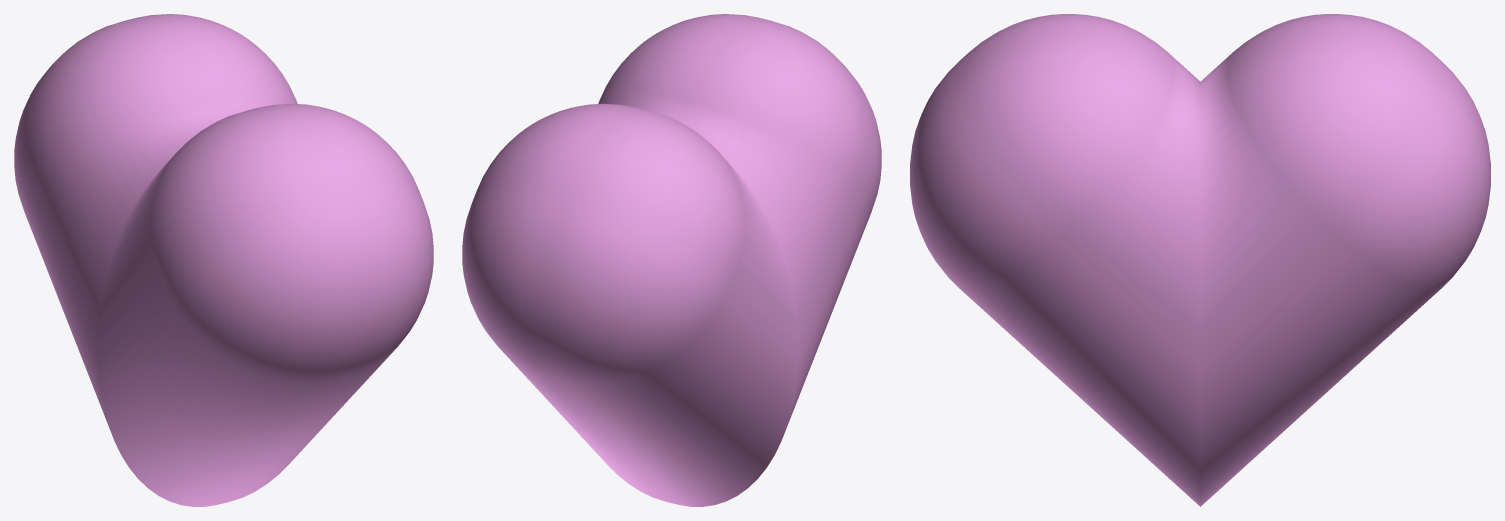
File: heart-DPDwZIm4.glb
3 views of the same model, side by side, from view 1: azimuth 30°, elevation 25°; view 2: azimuth 150°, elevation 25°; view 3: azimuth 270°, elevation 25° (orthographic). The views are drawn at different scales.
Parts seen in each view (by area): view 1: heart; view 2: heart; view 3: heart.
Boxes of the visible parts, left/top/right/bottom form: heart: left=14, top=14, right=433, bottom=506; heart: left=462, top=14, right=881, bottom=506; heart: left=910, top=14, right=1490, bottom=506.
Bounding box in the file's own units: 0.5741 × 0.9422 × 1.07.
